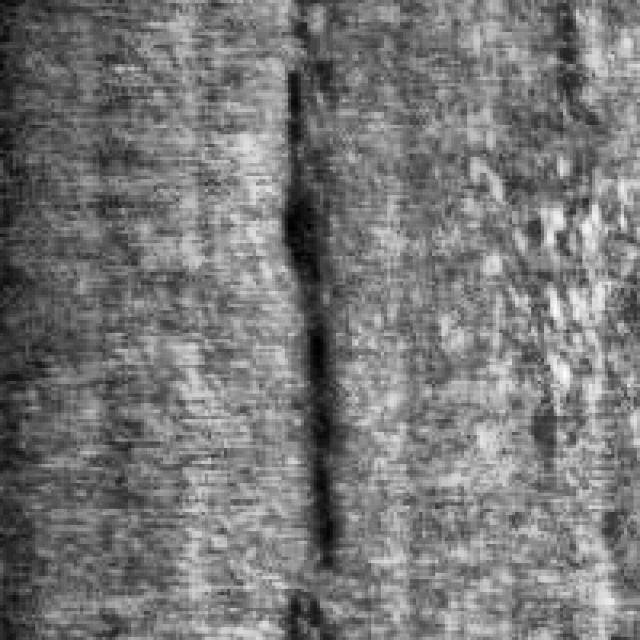Patches: (256, 61, 352, 362), (291, 304, 352, 576)
